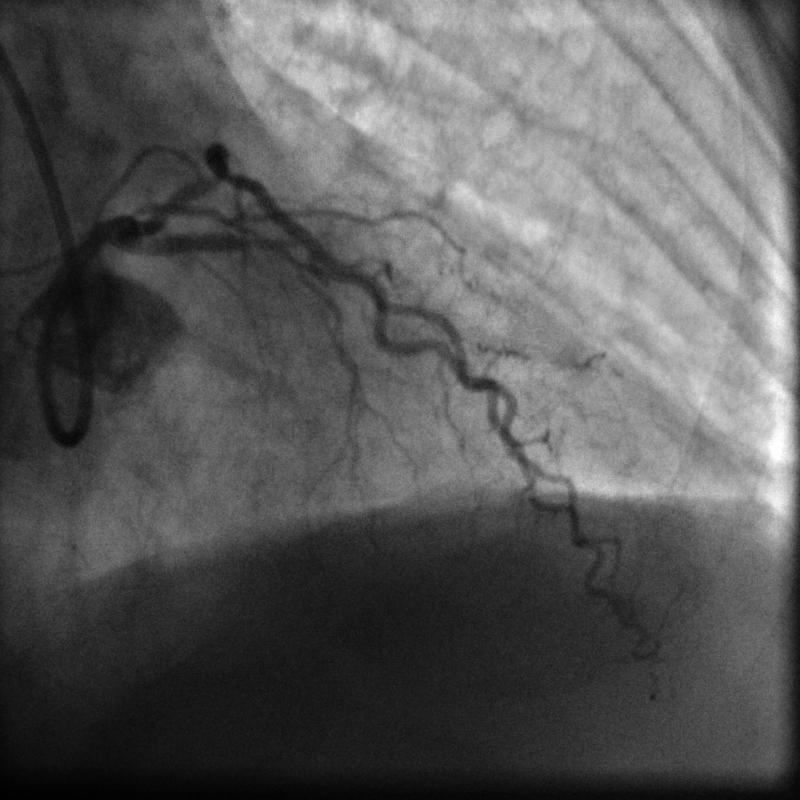Stenosis: (255, 224, 299, 267)
